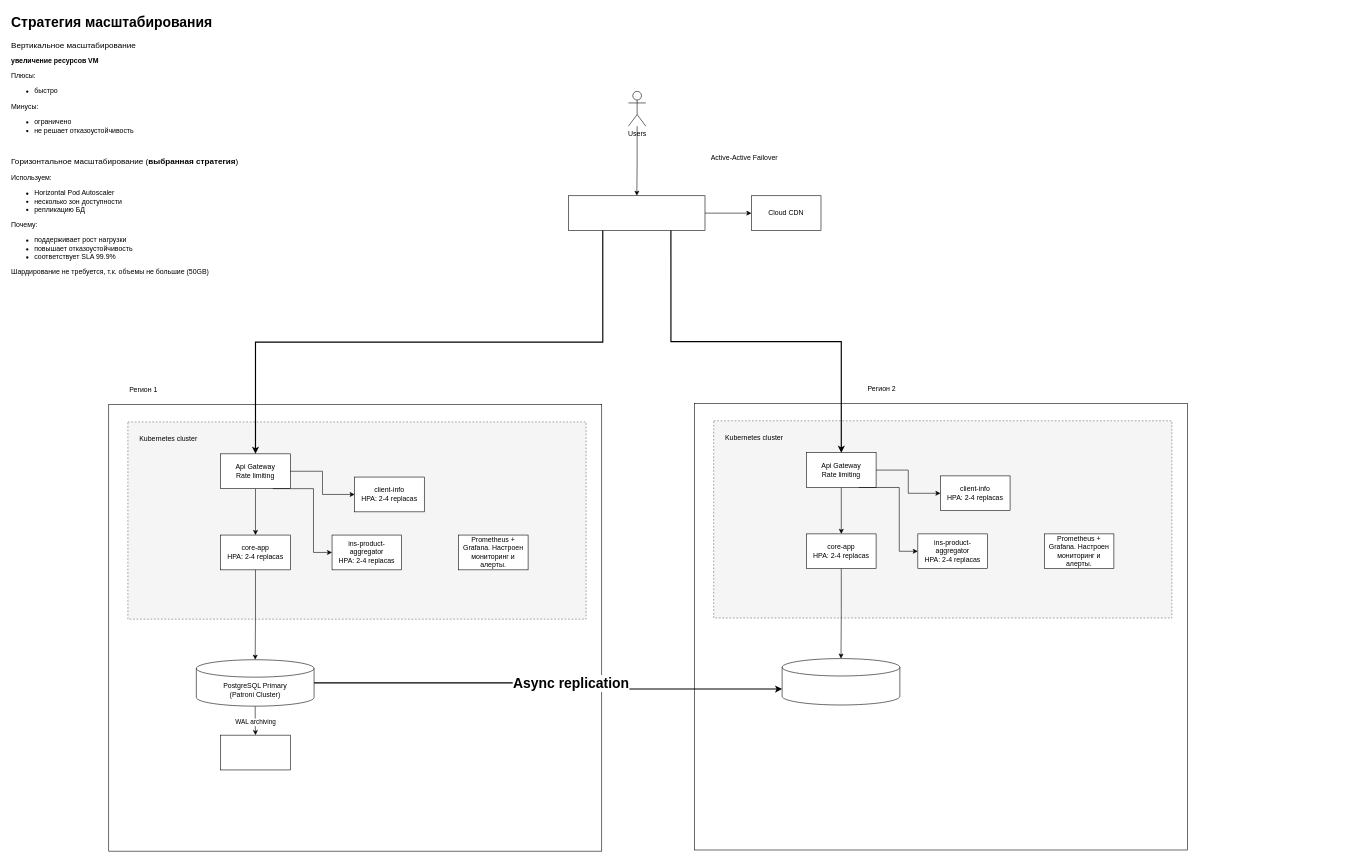
This 1361x861 diagram has some shape labels left out. The centre of each missing label's shape, as x and y in pixels:
"Global Server Load Balancer (GSLB) Healthcheck: HTTP 200" goes at (x=636, y=213).
"Object Storage every 10 min WAL daily full backup" goes at (x=255, y=752).
"PostgreSQL Replica" goes at (x=841, y=681).
